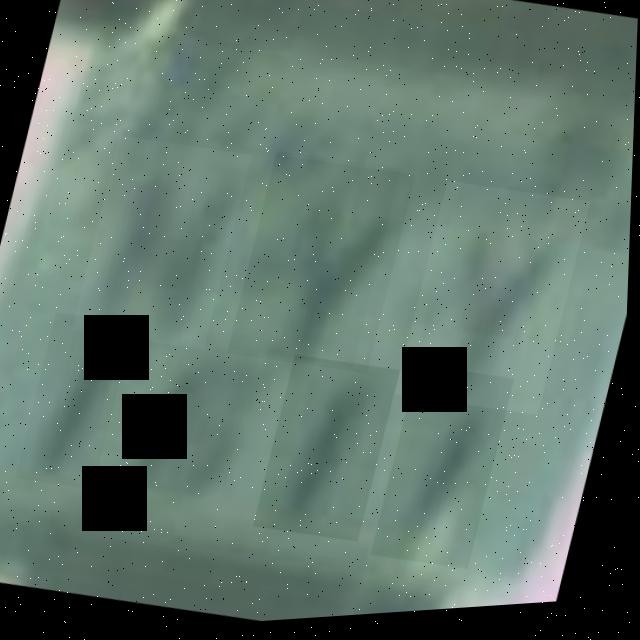1: (374, 365, 518, 581), (256, 353, 403, 552), (19, 309, 137, 495)
N: (73, 130, 253, 359), (230, 148, 403, 378)
Y: (396, 179, 592, 430), (228, 150, 418, 386)
